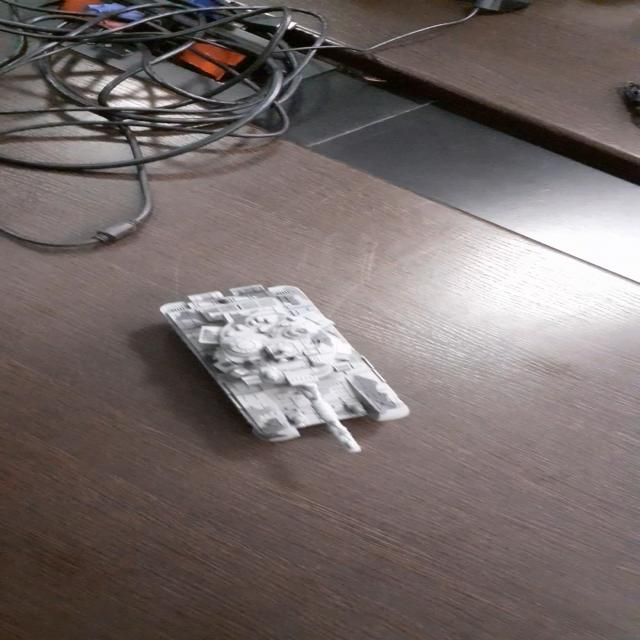tank: (146, 275, 426, 460)
